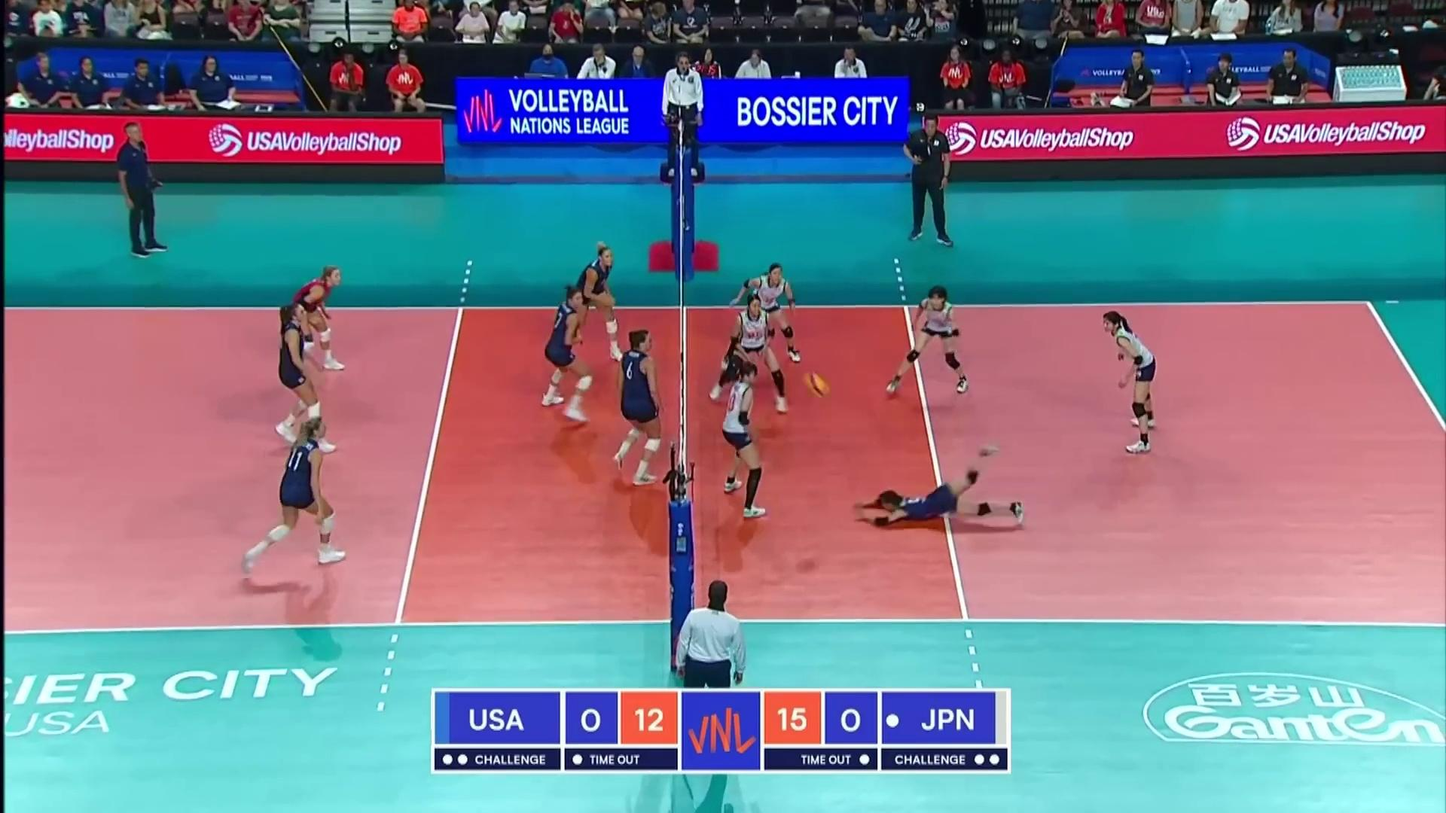player: (246, 417, 344, 578), (854, 444, 1025, 533), (276, 306, 339, 459), (607, 329, 669, 479), (710, 298, 789, 414), (888, 285, 971, 395), (1100, 311, 1158, 456), (565, 242, 625, 363), (539, 289, 592, 421), (722, 364, 766, 516), (731, 264, 795, 367), (288, 263, 345, 372)
refree: (670, 583, 747, 689), (662, 53, 705, 173)
